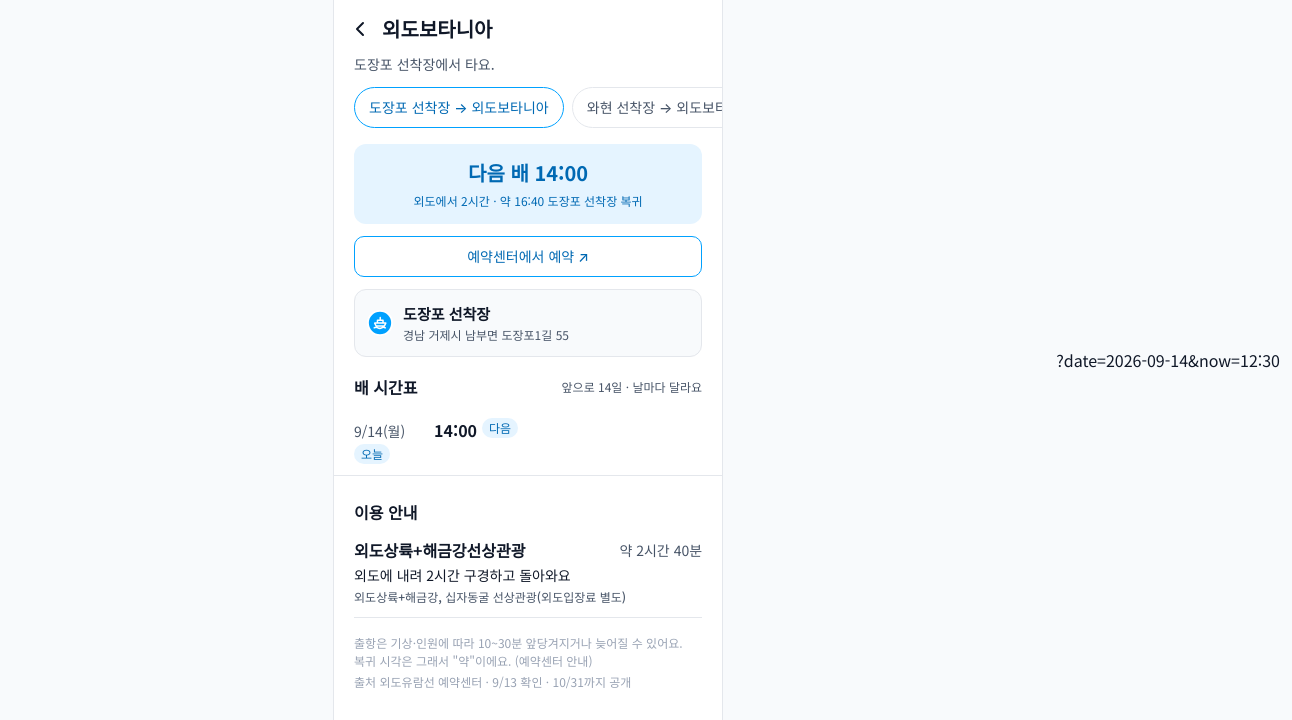
Test case: SpotTimetablePage — 유람선 › 선착장 칩을 누르면 그 선착장의 배 — 다시 묻지 않는다
This screenshot has width=1292, height=720.
Click the button "와현 선착장 → 외도보타니아". click: x=670, y=108
box: [572,87,769,128]
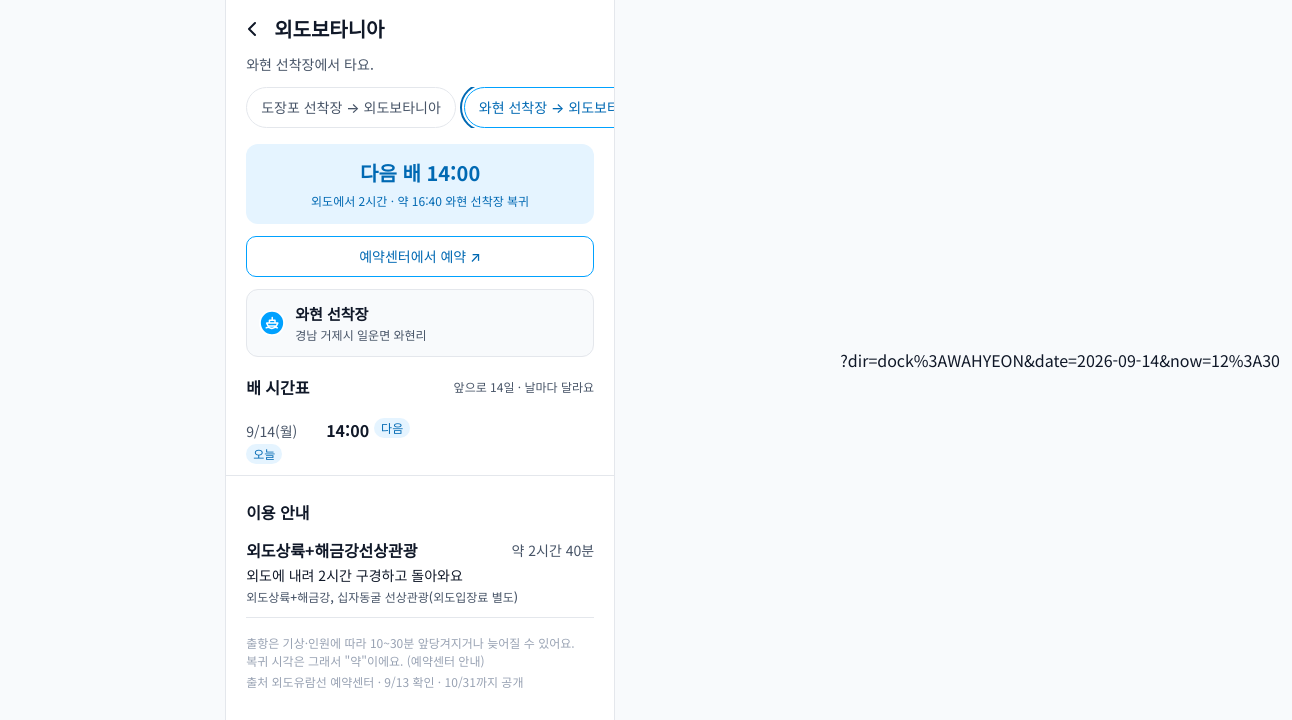
Expected: the text "와현 선착장에서 타요." is shown, [246,54,374,74]
Expected: the text "도장포 선착장에서 타요." is gone
